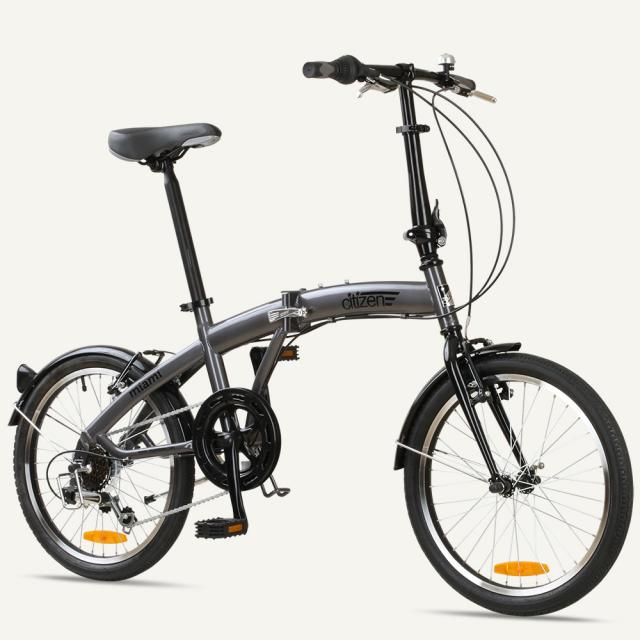folding-bike: (5, 50, 636, 617)
